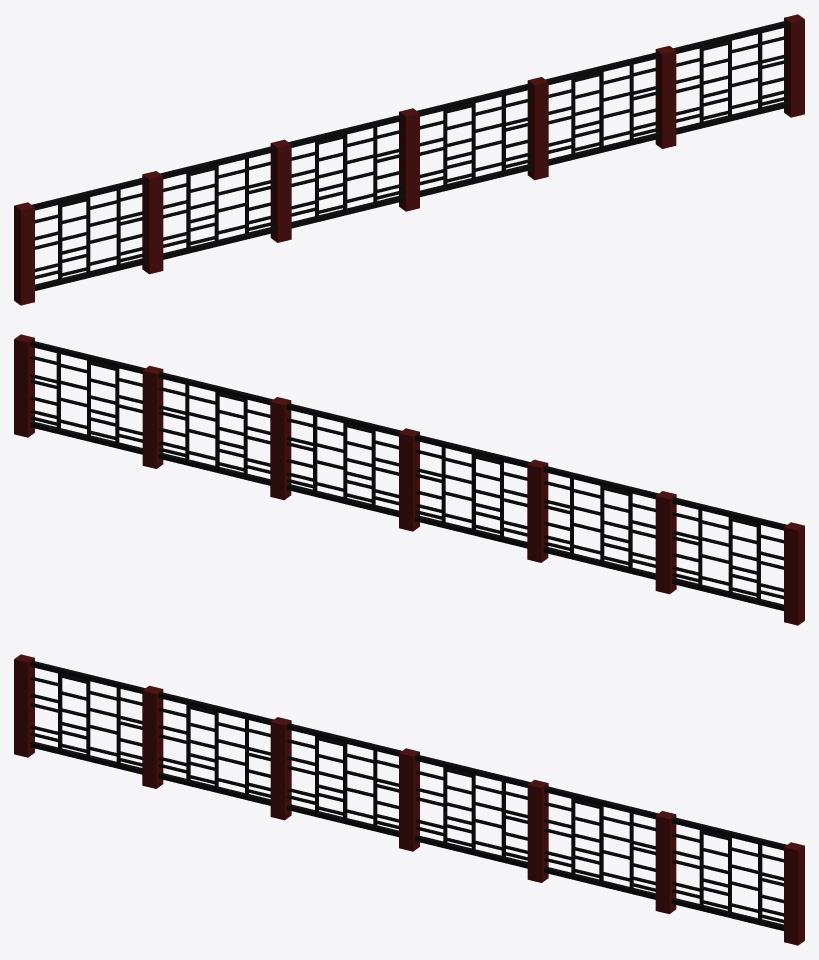
File: Fence.fbx
3 renders of one model, top to bottom at view 1: azimuth 30°, elevation 25°; view 2: azimuth 150°, elevation 25°; view 3: azimuth 330°, elevation 25°, orthographic.
Visible parts, largest first — view 1: Box20327, Box20300, Box20365, Box20229, Box20273, Box20354, Box20230, Box20367, Box20231, Box20284, Box20311, Box20385 (+7 smaller); view 2: Box20327, Box20300, Box20365, Box20229, Box20273, Box20354, Box20230, Box20367, Box20231, Box20284, Box20311, Box20385 (+7 smaller); view 3: Box20354, Box20273, Box20229, Box20365, Box20300, Box20327, Box20230, Box20338, Box20311, Box20231, Box20367, Box20284 (+7 smaller).
Part boxes in pixels (x1,y1,x2,y2): Box20327: (14, 202, 34, 305); Box20300: (142, 171, 163, 274); Box20365: (655, 45, 676, 148); Box20229: (527, 77, 548, 180); Box20273: (270, 139, 291, 242); Box20354: (784, 14, 804, 117); Box20230: (399, 108, 419, 211); Box20367: (673, 20, 788, 53); Box20231: (417, 83, 532, 116); Box20284: (288, 114, 403, 147); Box20311: (160, 146, 275, 179); Box20385: (545, 52, 660, 84); Box20327: (784, 522, 804, 625); Box20300: (655, 491, 676, 594); Box20365: (142, 365, 163, 468); Box20229: (270, 397, 291, 500); Box20273: (527, 459, 548, 562); Box20354: (14, 334, 34, 437); Box20230: (399, 428, 419, 531); Box20367: (30, 340, 145, 373); Box20231: (286, 403, 401, 436); Box20284: (415, 434, 530, 467); Box20311: (543, 466, 658, 499); Box20385: (158, 372, 273, 404); Box20354: (784, 842, 804, 945); Box20273: (270, 717, 291, 820); Box20229: (527, 779, 548, 882); Box20365: (655, 811, 676, 914); Box20300: (142, 685, 163, 788); Box20327: (14, 654, 34, 757); Box20230: (399, 748, 419, 851); Box20338: (30, 660, 145, 693); Box20311: (158, 692, 273, 725); Box20231: (415, 754, 530, 787); Box20367: (671, 817, 786, 850); Box20284: (287, 723, 401, 756).
Bounding box in the file's own units: 24103 × 2791 × 364.
